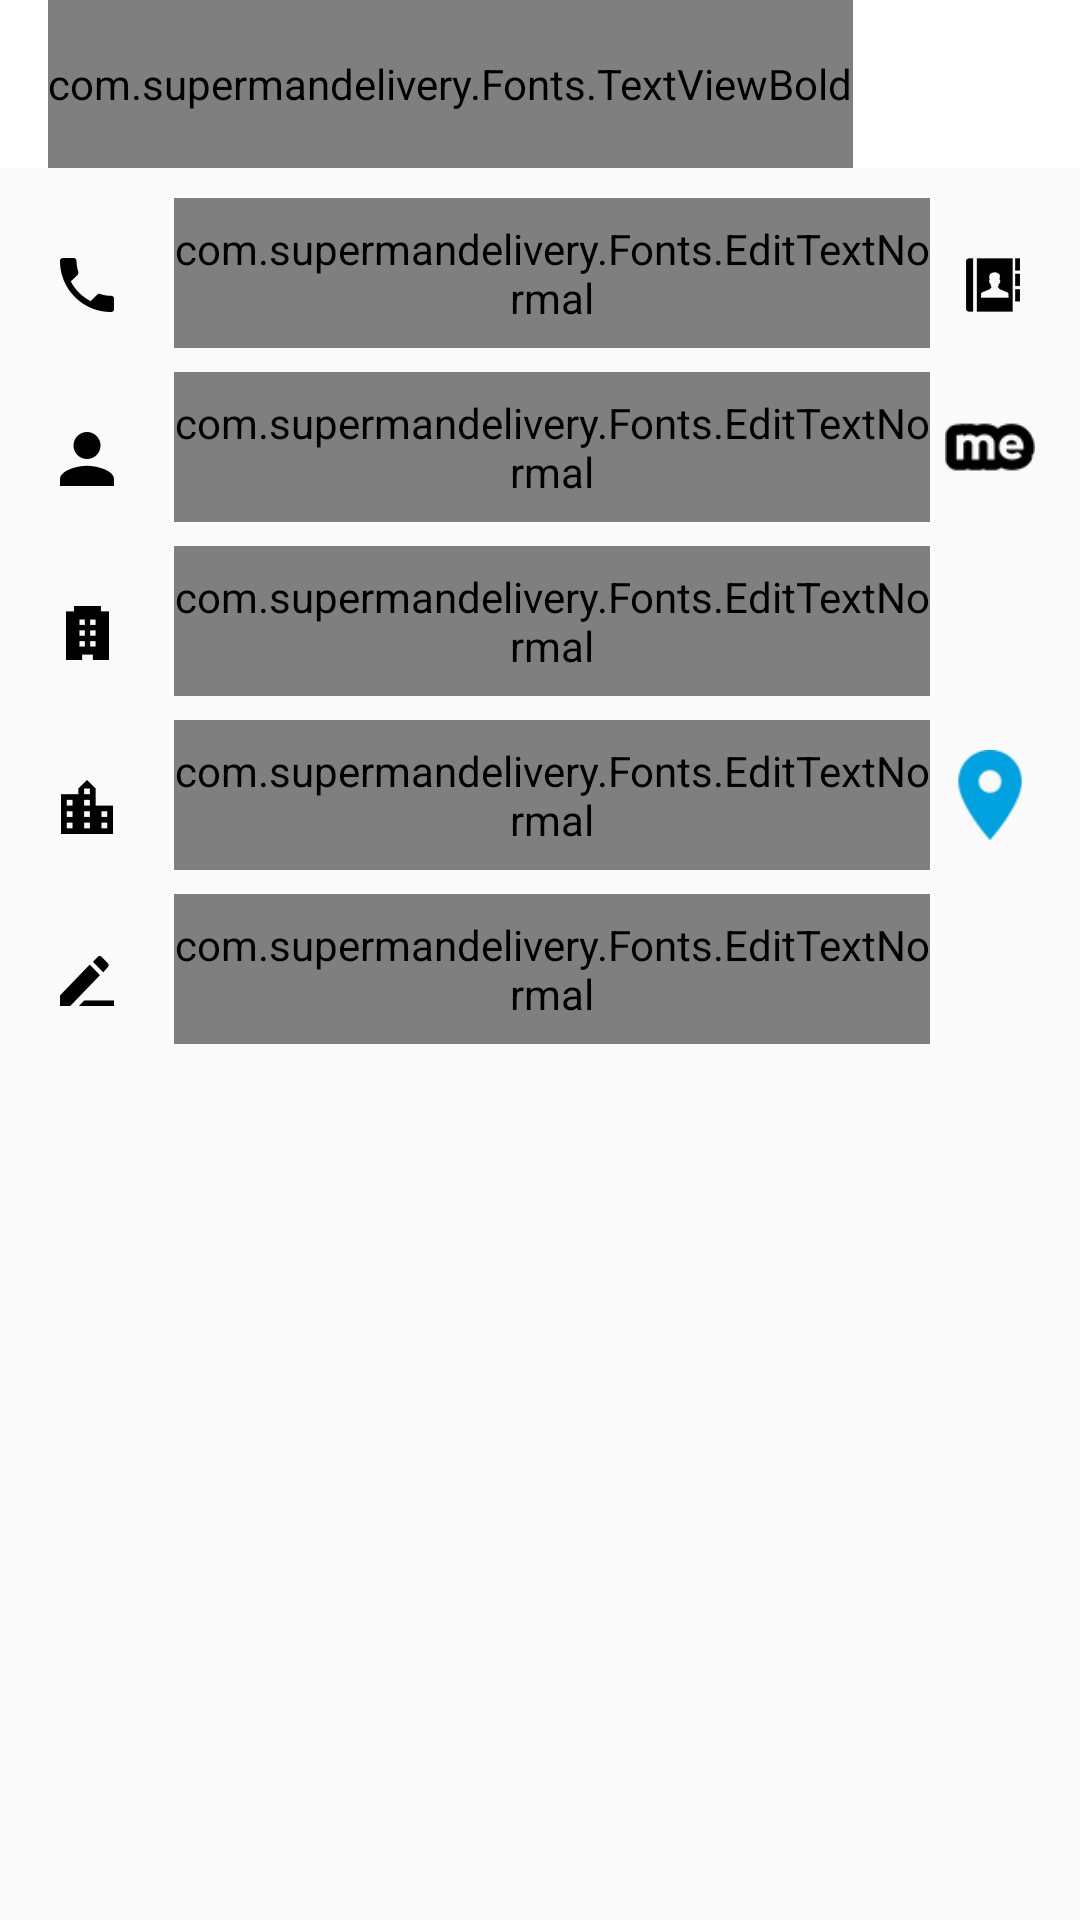

Icon click points for this 1080px x 1920px phone screenshot, format (x=x, y=y):
call: (x=87, y=285)
contact: (x=993, y=285)
